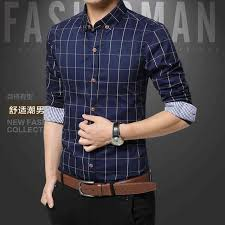squared: (42, 3, 199, 185)
